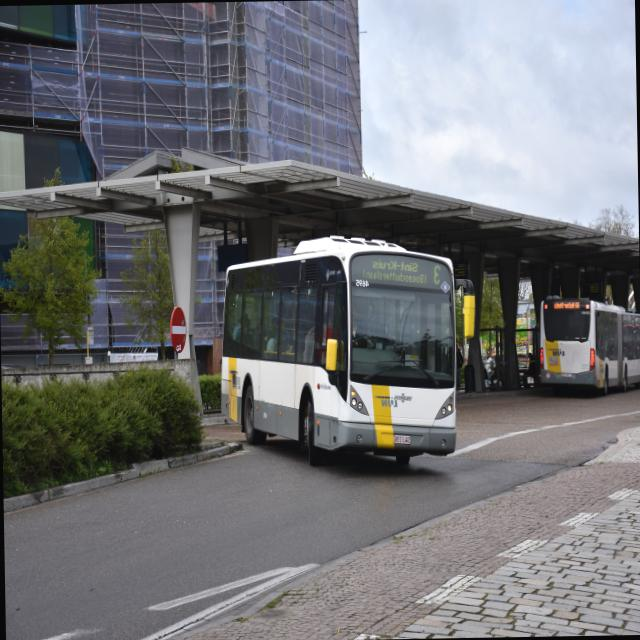bus-number: (431, 264, 442, 286)
